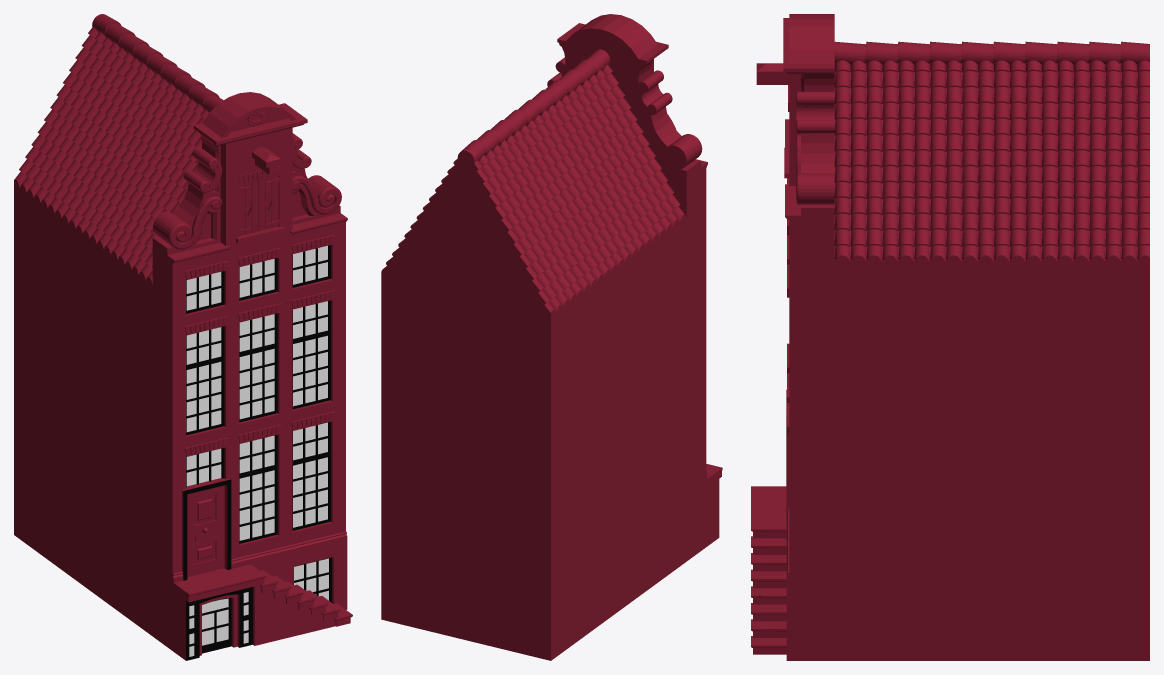
Rendered from amsterdam2.glb.
The picture shows the model from 3 angles, left to right: view 1: azimuth 30°, elevation 25°; view 2: azimuth 150°, elevation 25°; view 3: azimuth 270°, elevation 25°; orthographic projection. The views are drawn at different scales.
Visible parts, largest first — view 1: House, Neck_Gable, Roof, Windows, Head, Frames, Stairs, Door, Wood, Frames2, DoorFrame, Frames3; view 2: House, Roof, Neck_Gable, Head; view 3: House, Roof, Neck_Gable, Head, Stairs.
Part boxes in pixels (<box>): House: <box>14,183,152,635</box>; Neck_Gable: <box>152,111,352,660</box>; Roof: <box>14,14,223,283</box>; Windows: <box>186,245,328,656</box>; Head: <box>153,92,347,263</box>; Frames: <box>186,245,331,602</box>; Stairs: <box>174,564,352,655</box>; Door: <box>187,485,224,577</box>; Wood: <box>236,175,284,243</box>; Frames2: <box>186,587,252,660</box>; DoorFrame: <box>183,479,231,580</box>; Frames3: <box>202,597,231,653</box>; House: <box>381,181,686,660</box>; Roof: <box>381,49,685,316</box>; Neck_Gable: <box>547,28,722,561</box>; Head: <box>550,14,707,170</box>; House: <box>834,259,1149,660</box>; Roof: <box>834,41,1149,260</box>; Neck_Gable: <box>751,85,834,660</box>; Head: <box>756,14,834,215</box>; Stairs: <box>751,486,786,645</box>.
Size of the model in its own units: 5 by 14.39 by 8.76.
